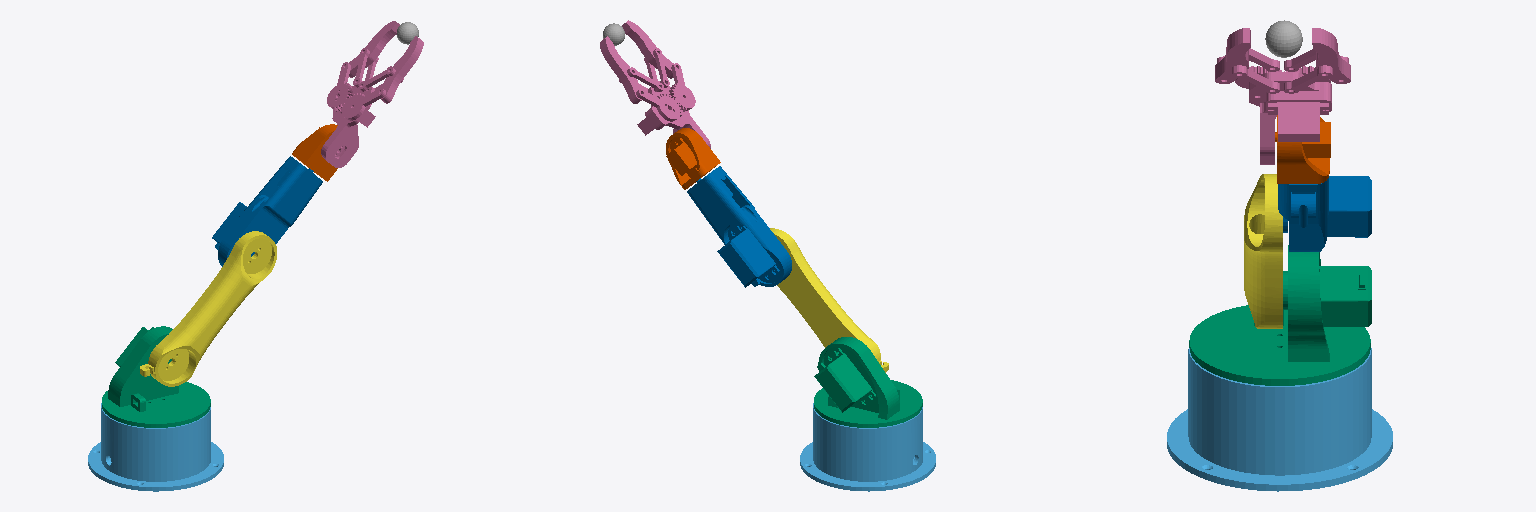
The robot description file, URDF, robot "robot_arm":
<?xml version="1.0" ?>
<!-- =================================================================================== -->
<!-- |    This document was autogenerated by xacro from /root/arm_project/arm_ws/src/robot_arm_description/urdf/robot_arm.xacro | -->
<!-- |    EDITING THIS FILE BY HAND IS NOT RECOMMENDED                                 | -->
<!-- =================================================================================== -->
<robot name="robot_arm">
    <transmission name="base_joint_tran">
        <type>transmission_interface/SimpleTransmission</type>
        <joint name="base_joint">
            <hardwareInterface>hardware_interface/EffortJointInterface</hardwareInterface>
        </joint>
        <actuator name="base_joint_actr">
            <hardwareInterface>hardware_interface/EffortJointInterface</hardwareInterface>
            <mechanicalReduction>1</mechanicalReduction>
        </actuator>
    </transmission>
    <transmission name="waist_joint_tran">
        <type>transmission_interface/SimpleTransmission</type>
        <joint name="waist_joint">
            <hardwareInterface>hardware_interface/EffortJointInterface</hardwareInterface>
        </joint>
        <actuator name="waist_joint_actr">
            <hardwareInterface>hardware_interface/EffortJointInterface</hardwareInterface>
            <mechanicalReduction>1</mechanicalReduction>
        </actuator>
    </transmission>
    <transmission name="arm1_joint_tran">
        <type>transmission_interface/SimpleTransmission</type>
        <joint name="arm1_joint">
            <hardwareInterface>hardware_interface/EffortJointInterface</hardwareInterface>
        </joint>
        <actuator name="arm1_joint_actr">
            <hardwareInterface>hardware_interface/EffortJointInterface</hardwareInterface>
            <mechanicalReduction>1</mechanicalReduction>
        </actuator>
    </transmission>
    <transmission name="arm2_joint_tran">
        <type>transmission_interface/SimpleTransmission</type>
        <joint name="arm2_joint">
            <hardwareInterface>hardware_interface/EffortJointInterface</hardwareInterface>
        </joint>
        <actuator name="arm2_joint_actr">
            <hardwareInterface>hardware_interface/EffortJointInterface</hardwareInterface>
            <mechanicalReduction>1</mechanicalReduction>
        </actuator>
    </transmission>
    <transmission name="arm3_joint_tran">
        <type>transmission_interface/SimpleTransmission</type>
        <joint name="arm3_joint">
            <hardwareInterface>hardware_interface/EffortJointInterface</hardwareInterface>
        </joint>
        <actuator name="arm3_joint_actr">
            <hardwareInterface>hardware_interface/EffortJointInterface</hardwareInterface>
            <mechanicalReduction>1</mechanicalReduction>
        </actuator>
    </transmission>
    <transmission name="end_eff_tran">
        <type>transmission_interface/SimpleTransmission</type>
        <joint name="end_eff">
            <hardwareInterface>hardware_interface/EffortJointInterface</hardwareInterface>
        </joint>
        <actuator name="end_eff_actr">
            <hardwareInterface>hardware_interface/EffortJointInterface</hardwareInterface>
            <mechanicalReduction>1</mechanicalReduction>
        </actuator>
    </transmission>
    <gazebo>
        <plugin filename="libgazebo_ros_control.so" name="control">
            <robotNamespace>/robot_arm</robotNamespace>
        </plugin>
        <plugin name="gazebo_ros_control">
            <robotNamespace>/</robotNamespace>
        </plugin>
    </gazebo>
    <gazebo reference="base_link">
        <material>Gazebo/Orange</material>
        <mu1>0.2</mu1>
        <mu2>0.2</mu2>
        <selfCollide>true</selfCollide>
        <gravity>true</gravity>
    </gazebo>
    <gazebo reference="waist_1">
        <material>Gazebo/Orange</material>
        <mu1>0.2</mu1>
        <mu2>0.2</mu2>
        <selfCollide>true</selfCollide>
    </gazebo>
    <gazebo reference="arm1_1">
        <material>Gazebo/Orange</material>
        <mu1>0.2</mu1>
        <mu2>0.2</mu2>
        <selfCollide>true</selfCollide>
    </gazebo>
    <gazebo reference="arm2_1">
        <material>Gazebo/Orange</material>
        <mu1>0.2</mu1>
        <mu2>0.2</mu2>
        <selfCollide>true</selfCollide>
    </gazebo>
    <gazebo reference="arm3_1">
        <material>Gazebo/Orange</material>
        <mu1>0.2</mu1>
        <mu2>0.2</mu2>
        <selfCollide>true</selfCollide>
    </gazebo>
    <gazebo reference="gripper_1">
        <material>Gazebo/White</material>
        <mu1>0.2</mu1>
        <mu2>0.2</mu2>
        <selfCollide>true</selfCollide>
    </gazebo>
    <gazebo reference="gripper_2">
        <material>Gazebo/White</material>
        <mu1>0.2</mu1>
        <mu2>0.2</mu2>
        <selfCollide>true</selfCollide>
    </gazebo>
    <link name="world"/>
    <link name="base_link">
        <inertial>
            <origin rpy="0 0 0" xyz="0.0024607011550564013 6.455733015215033e-10 0.0241964579063244" />
            <mass value="0.13769209908471902" />
            <!--<inertia ixx="0.000143" iyy="0.00016" izz="0.000229" ixy="-0.0" iyz="0.0" ixz="-6e-06"/>-->
            <inertia ixx="0" ixy="0" ixz="0" iyy="0" iyz="0" izz="0" />
        </inertial>
        <visual>
            <origin rpy="0 0 0" xyz="0 0 0" />
            <geometry>
                <mesh filename="package://robot_arm_description/meshes/base_link.stl" scale="0.001 0.001 0.001" />
            </geometry>
        </visual>
        <collision>
            <origin rpy="0 0 0" xyz="0 0 0" />
            <geometry>
                <mesh filename="package://robot_arm_description/meshes/base_link.stl" scale="0.001 0.001 0.001" />
            </geometry>
        </collision>
    </link>
    <link name="waist_1">
        <inertial>
            <origin rpy="0 0 0" xyz="0.00318602649091635 0.013877747356906538 0.022689548276635066" />
            <mass value="0.10800159155411357" />
            <inertia ixx="7.4e-05" ixy="-3e-06" ixz="-1.1e-05" iyy="7.5e-05" iyz="-1.4e-05" izz="7.9e-05" />
        </inertial>
        <visual>
            <origin rpy="0 0 0" xyz="0.0 -0.0 -0.0566" />
            <geometry>
                <mesh filename="package://robot_arm_description/meshes/waist_1.stl" scale="0.001 0.001 0.001" />
            </geometry>
        </visual>
        <collision>
            <origin rpy="0 0 0" xyz="0.0 -0.0 -0.0566" />
            <geometry>
                <mesh filename="package://robot_arm_description/meshes/waist_1.stl" scale="0.001 0.001 0.001" />
            </geometry>
        </collision>
    </link>
    <link name="arm1_1">
        <inertial>
            <origin rpy="0 0 0" xyz="0.04133751613396197 -0.007768202679351965 0.04152238032046518" />
            <mass value="0.505446604180645" />
            <inertia ixx="0.000463" ixy="-1e-06" ixz="-0.000396" iyy="0.000903" iyz="-1e-06" izz="0.000474" />
        </inertial>
        <visual>
            <origin rpy="0 0 0" xyz="-0.013742 -0.0018 -0.097053" />
            <geometry>
                <mesh filename="package://robot_arm_description/meshes/arm1_1.stl" scale="0.001 0.001 0.001" />
            </geometry>
        </visual>
        <collision>
            <origin rpy="0 0 0" xyz="-0.013742 -0.0018 -0.097053" />
            <geometry>
                <mesh filename="package://robot_arm_description/meshes/arm1_1.stl" scale="0.001 0.001 0.001" />
            </geometry>
        </collision>
    </link>
    <link name="arm2_1">
        <inertial>
            <origin rpy="0 0 0" xyz="0.021875310017626437 0.01671146992191255 0.022052083955411417" />
            <mass value="0.09671321602707647" />
            <inertia ixx="6.6e-05" ixy="8e-06" ixz="-4.3e-05" iyy="0.000103" iyz="8e-06" izz="6.6e-05" />
        </inertial>
        <visual>
            <origin rpy="0 0 0" xyz="-0.098595 -0.0018 -0.181906" />
            <geometry>
                <mesh filename="package://robot_arm_description/meshes/arm2_1.stl" scale="0.001 0.001 0.001" />
            </geometry>
        </visual>
        <collision>
            <origin rpy="0 0 0" xyz="-0.098595 -0.0018 -0.181906" />
            <geometry>
                <mesh filename="package://robot_arm_description/meshes/arm2_1.stl" scale="0.001 0.001 0.001" />
            </geometry>
        </collision>
    </link>
    <link name="arm3_1">
        <inertial>
            <origin rpy="0 0 0" xyz="0.010225315136705243 -0.0030655198679682485 0.017341165454192953" />
            <mass value="0.025038543338458022" />
            <inertia ixx="4e-06" ixy="0.0" ixz="-1e-06" iyy="6e-06" iyz="0.0" izz="4e-06" />
        </inertial>
        <visual>
            <origin rpy="0 0 0" xyz="-0.166936 -0.0125 -0.243106" />
            <geometry>
                <mesh filename="package://robot_arm_description/meshes/arm3_1.stl" scale="0.001 0.001 0.001" />
            </geometry>
        </visual>
        <collision>
            <origin rpy="0 0 0" xyz="-0.166936 -0.0125 -0.243106" />
            <geometry>
                <mesh filename="package://robot_arm_description/meshes/arm3_1.stl" scale="0.001 0.001 0.001" />
            </geometry>
        </collision>
    </link>
    <link name="gripper_1">
        <inertial>
            <origin rpy="0 0 0" xyz="0.028485280332901375 0.004846546679879509 0.04072672947992795" />
            <mass value="0.044561931204964" />
            <inertia ixx="4.2e-05" ixy="-1e-06" ixz="-2e-05" iyy="4.7e-05" iyz="-1e-06" izz="3.1e-05" />
        </inertial>
        <visual>
            <origin rpy="0 0 0" xyz="-0.1832 0.00285 -0.266441" />
            <geometry>
                <mesh filename="package://robot_arm_description/meshes/gripper_1.stl" scale="0.001 0.001 0.001" />
            </geometry>
        </visual>
        <collision>
            <origin rpy="0 0 0" xyz="-0.1832 0.00285 -0.266441" />
            <geometry>
                <mesh filename="package://robot_arm_description/meshes/gripper_1.stl" scale="0.001 0.001 0.001" />
            </geometry>
        </collision>
    </link>
    <link name="gripper_2">
        <inertial>
            <origin rpy="0 0 0" xyz="0.0 0.0 0.0" />
            <mass value="0.0" />
            <inertia ixx="0" ixy="0" ixz="0" iyy="0" iyz="0" izz="0" />
        </inertial>
        <visual>
            <origin rpy="0 0 0" xyz="0.0 0.0 0.0" />
            <geometry>
                <sphere radius="0.01" />
            </geometry>
        </visual>
        <collision>
            <origin rpy="0 0 0" xyz="0.0 0.0 0.0" />
            <geometry>
                <sphere radius="0.00" />
            </geometry>
        </collision>
    </link>
    <joint name="base_joint" type="revolute">
        <origin rpy="0 0 0" xyz="0.0 0.0 0.0566" />
        <parent link="base_link" />
        <child link="waist_1" />
        <axis xyz="-0.0 0.0 1.0" />
        <limit effort="1.075" lower="-1.570796" upper="1.570796" velocity="6" />
    </joint>
    <joint name="waist_joint" type="revolute">
        <origin rpy="0 0 0" xyz="0.013742 0.0018 0.040453" />
        <parent link="waist_1" />
        <child link="arm1_1" />
        <axis xyz="0.0 -1.0 0.0" />
        <limit effort="1.075" lower="-1.27409" upper="1.570796" velocity="6" />
    </joint>
    <joint name="arm1_joint" type="revolute">
        <origin rpy="0 0 0" xyz="0.084853 0.0 0.084853" />
        <parent link="arm1_1" />
        <child link="arm2_1" />
        <axis xyz="-0.0 1.0 -0.0" />
        <limit effort="1.075" lower="-1.570796" upper="1.570796" velocity="6" />
    </joint>
    <joint name="arm2_joint" type="revolute">
        <origin rpy="0 0 0" xyz="0.068341 0.0107 0.0612" />
        <parent link="arm2_1" />
        <child link="arm3_1" />
        <axis xyz="0.707107 0.0 0.707107" />
        <limit effort="1.075" lower="-1.570796" upper="1.570796" velocity="6" />
    </joint>
    <joint name="arm3_joint" type="revolute">
        <origin rpy="0 0 0" xyz="0.016264 -0.01535 0.023335" />
        <parent link="arm3_1" />
        <child link="gripper_1" />
        <axis xyz="-0.0 -1.0 0.0" />
        <limit effort="1.075" lower="-1.570796" upper="1.570796" velocity="6" />
    </joint>
    <joint name="fixed" type="fixed">
    <parent link="world"/>
    <child link="base_link"/>
    <origin xyz="0.0 0.0 0.0" rpy="0 0 0"/>
  </joint>
    <joint name="end_eff" type="revolute">
        <origin rpy="0 0 0" xyz="0.076264 0.005 0.093335" />
        <parent link="gripper_1" />
        <child link="gripper_2" />
        <axis xyz="-0.0 -1.0 0.0" />
        <limit effort="1.075" lower="-1.570796" upper="1.570796" velocity="6" />
    </joint>
</robot>

--- Render facts (derived) ---
Views: 3 orthographic renders of the robot side by side, from view 1: azimuth 30°, elevation 25°; view 2: azimuth 150°, elevation 25°; view 3: azimuth 270°, elevation 25°.
Model robot_arm with 8 links and 7 joints (6 revolute, 1 fixed), rooted at world, posed all joints at 0.
Visible links, largest first — view 1: base_link, arm1_1, waist_1, gripper_1, arm2_1, arm3_1; view 2: base_link, waist_1, arm2_1, gripper_1, arm1_1, arm3_1; view 3: base_link, waist_1, gripper_1, arm2_1, arm1_1, arm3_1, gripper_2.
Boxes of the visible links, box(x1,y1,x2,y2) form: base_link: box(88, 403, 223, 491); arm1_1: box(140, 231, 276, 386); waist_1: box(102, 326, 210, 427); gripper_1: box(321, 21, 423, 167); arm2_1: box(212, 156, 322, 266); arm3_1: box(292, 124, 337, 181); base_link: box(800, 403, 935, 491); waist_1: box(814, 337, 922, 427); arm2_1: box(687, 166, 791, 287); gripper_1: box(600, 20, 710, 148); arm1_1: box(770, 228, 888, 372); arm3_1: box(666, 128, 720, 189); base_link: box(1167, 348, 1392, 491); waist_1: box(1189, 245, 1371, 385); gripper_1: box(1215, 28, 1350, 164); arm2_1: box(1278, 176, 1371, 251); arm1_1: box(1244, 174, 1282, 328); arm3_1: box(1275, 115, 1330, 183); gripper_2: box(1265, 20, 1302, 57).
Size in the robot's own frame: 0.3301 by 0.1212 by 0.3698 metres.
Meshes: 6 distinct files referenced, 6 mesh visuals loaded (6 binary STL).